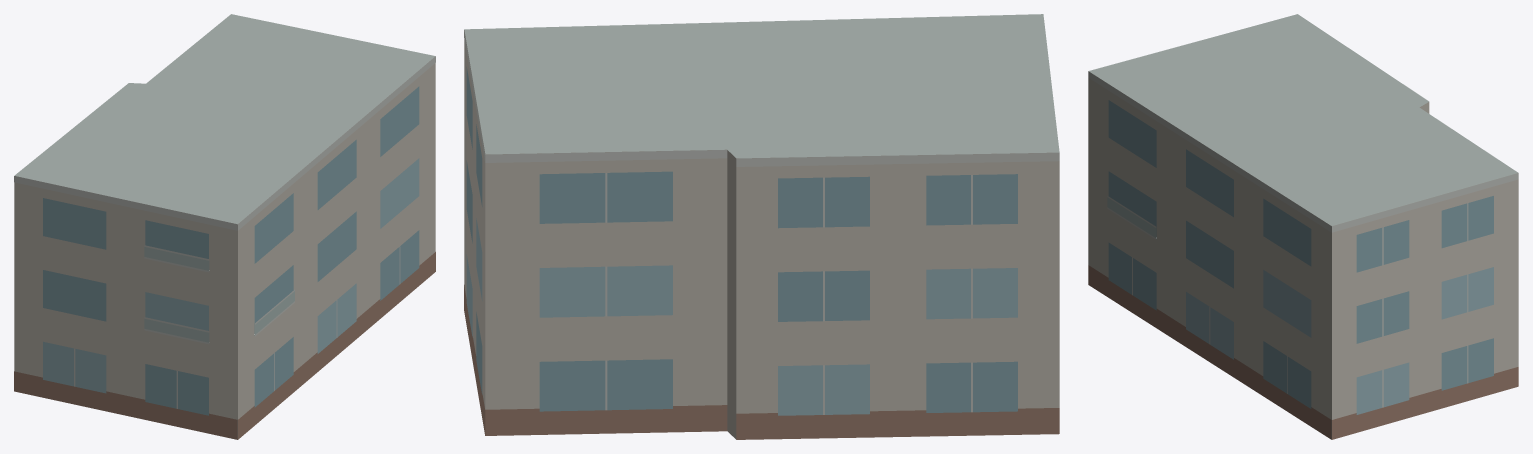
File: survey-upis-32689250.glb
3 views of the same model, side by side, from view 1: azimuth 30°, elevation 25°; view 2: azimuth 150°, elevation 25°; view 3: azimuth 270°, elevation 25° (orthographic). The views are drawn at different scales.
Parts seen in each view (by area): view 1: survey-upis-32689250.tmp; view 2: survey-upis-32689250.tmp; view 3: survey-upis-32689250.tmp.
Boxes of the visible parts, left/top/right/bottom form: survey-upis-32689250.tmp: left=14, top=14, right=435, bottom=439; survey-upis-32689250.tmp: left=464, top=14, right=1059, bottom=439; survey-upis-32689250.tmp: left=1088, top=14, right=1518, bottom=439.
Size of the model in its own units: 17.05 by 8 by 14.61.
